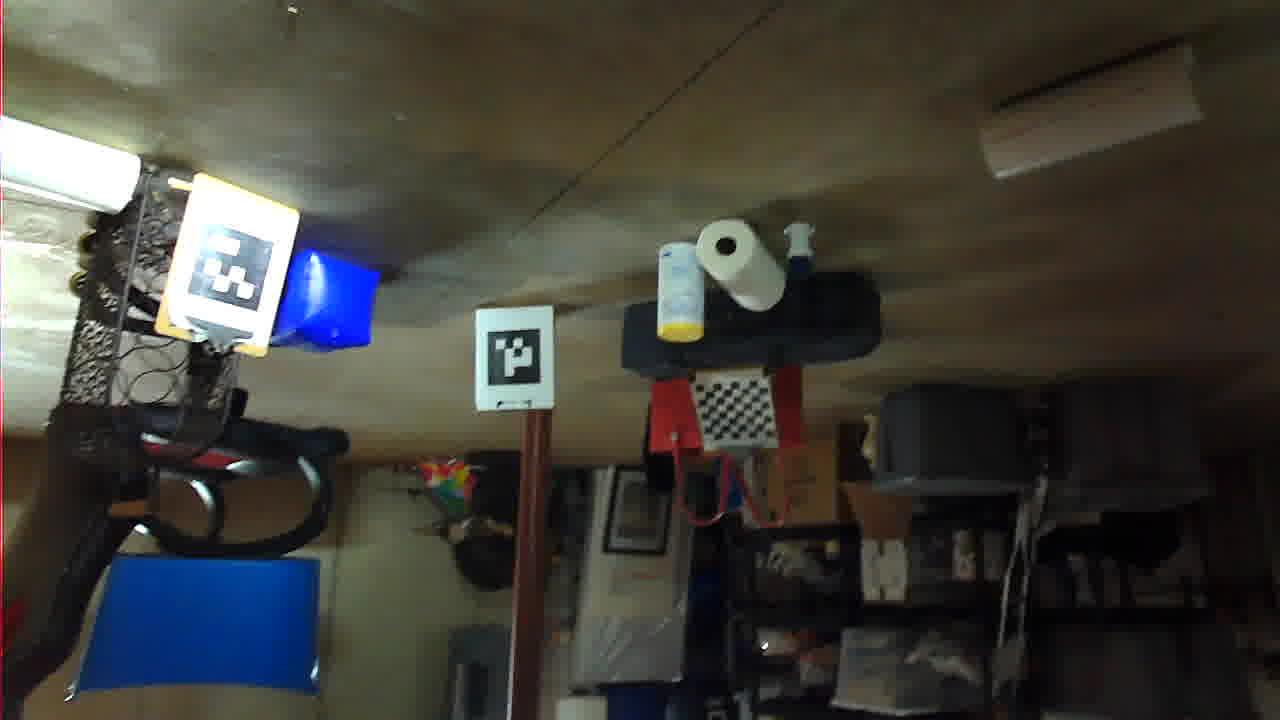coral: (76, 541, 300, 677)
